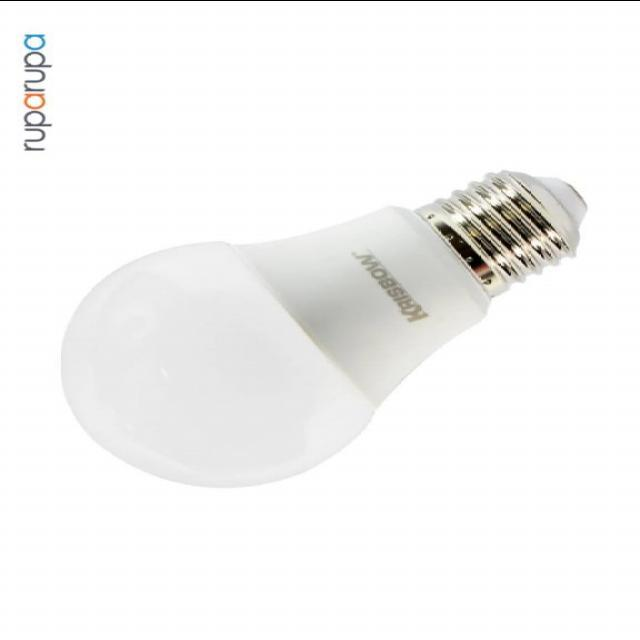light_bulb: (48, 152, 600, 498)
